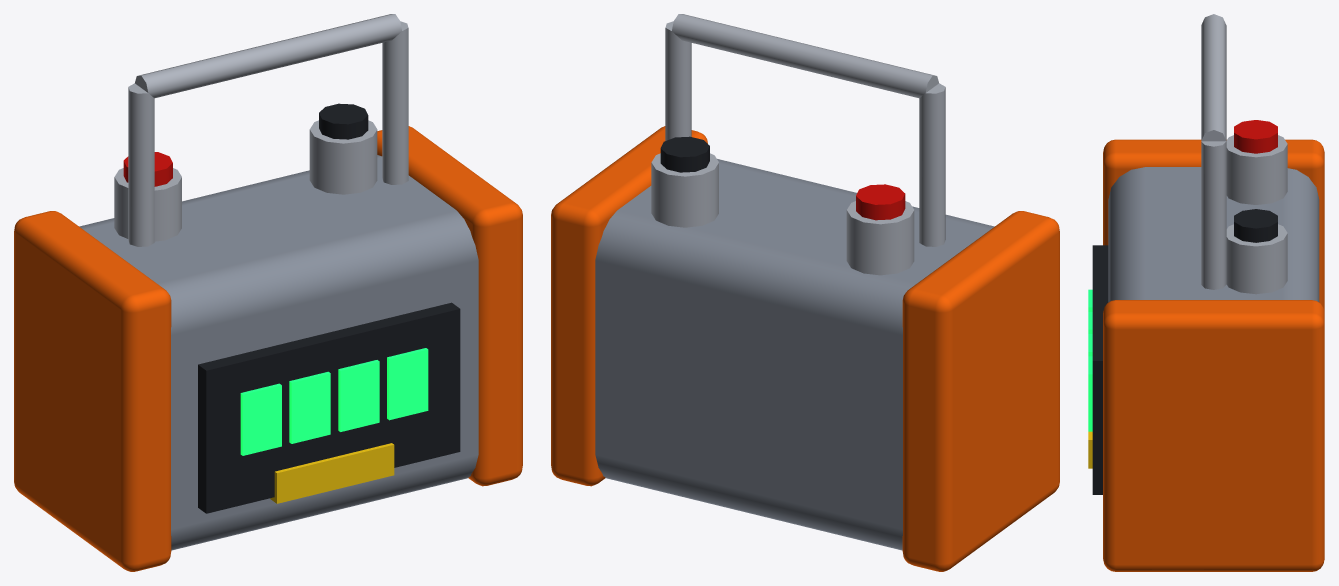
The model's file is battery.glb.
The picture shows the model from 3 angles, left to right: view 1: azimuth 30°, elevation 25°; view 2: azimuth 150°, elevation 25°; view 3: azimuth 270°, elevation 25°; orthographic projection. The views are drawn at different scales.
Parts seen in each view (by area): view 1: BAT_Body; view 2: BAT_Body; view 3: BAT_Body.
Part boxes in pixels (box(x1,y1,x2,y2)): BAT_Body: box(14, 14, 522, 571); BAT_Body: box(551, 14, 1059, 571); BAT_Body: box(1088, 14, 1324, 571).
Bounding box in the file's own units: 0.41 × 0.432 × 0.224.
